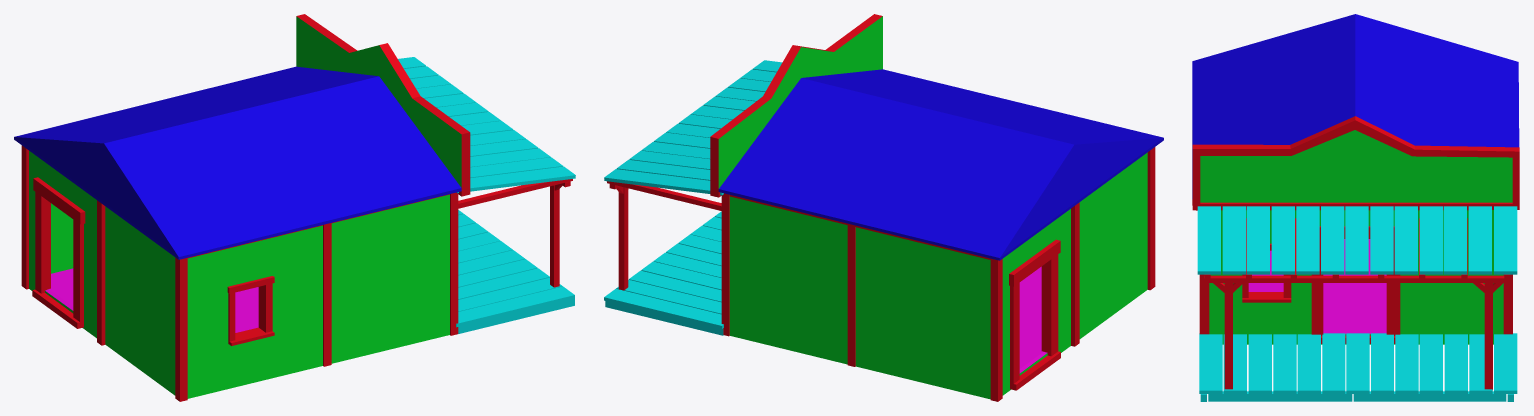
Rendered from Home.fbx.
The picture shows the model from 3 angles, left to right: view 1: azimuth 30°, elevation 25°; view 2: azimuth 150°, elevation 25°; view 3: azimuth 270°, elevation 25°; orthographic projection.
Parts seen in each view (by area): view 1: structure; view 2: structure; view 3: structure.
Part boxes in pixels (x1,y1,x2,y2): structure: (14, 14, 575, 401); structure: (604, 14, 1163, 401); structure: (1192, 14, 1519, 401).
Bounding box in the file's own units: 1252 × 693 × 897.
